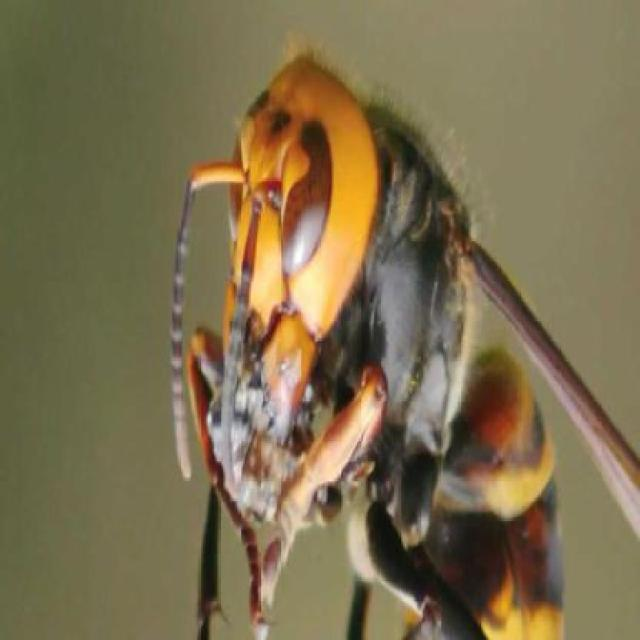Wasp: (160, 23, 640, 640)
